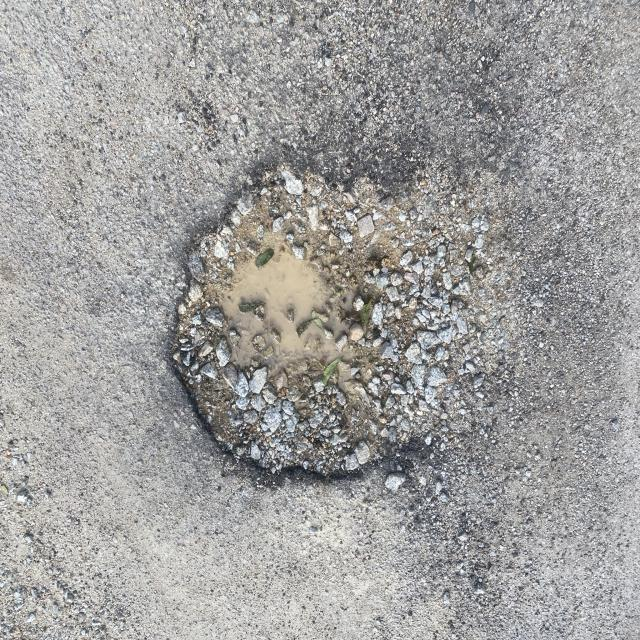pothole: (145, 128, 465, 578)
